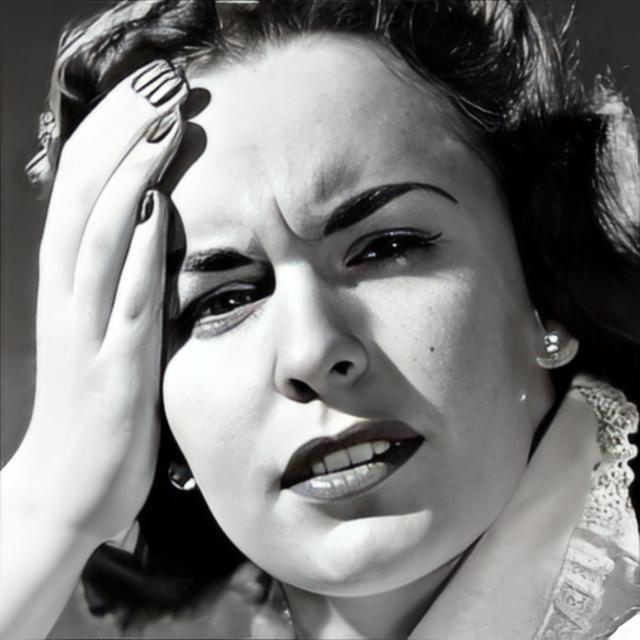disgust: (162, 30, 540, 601)
